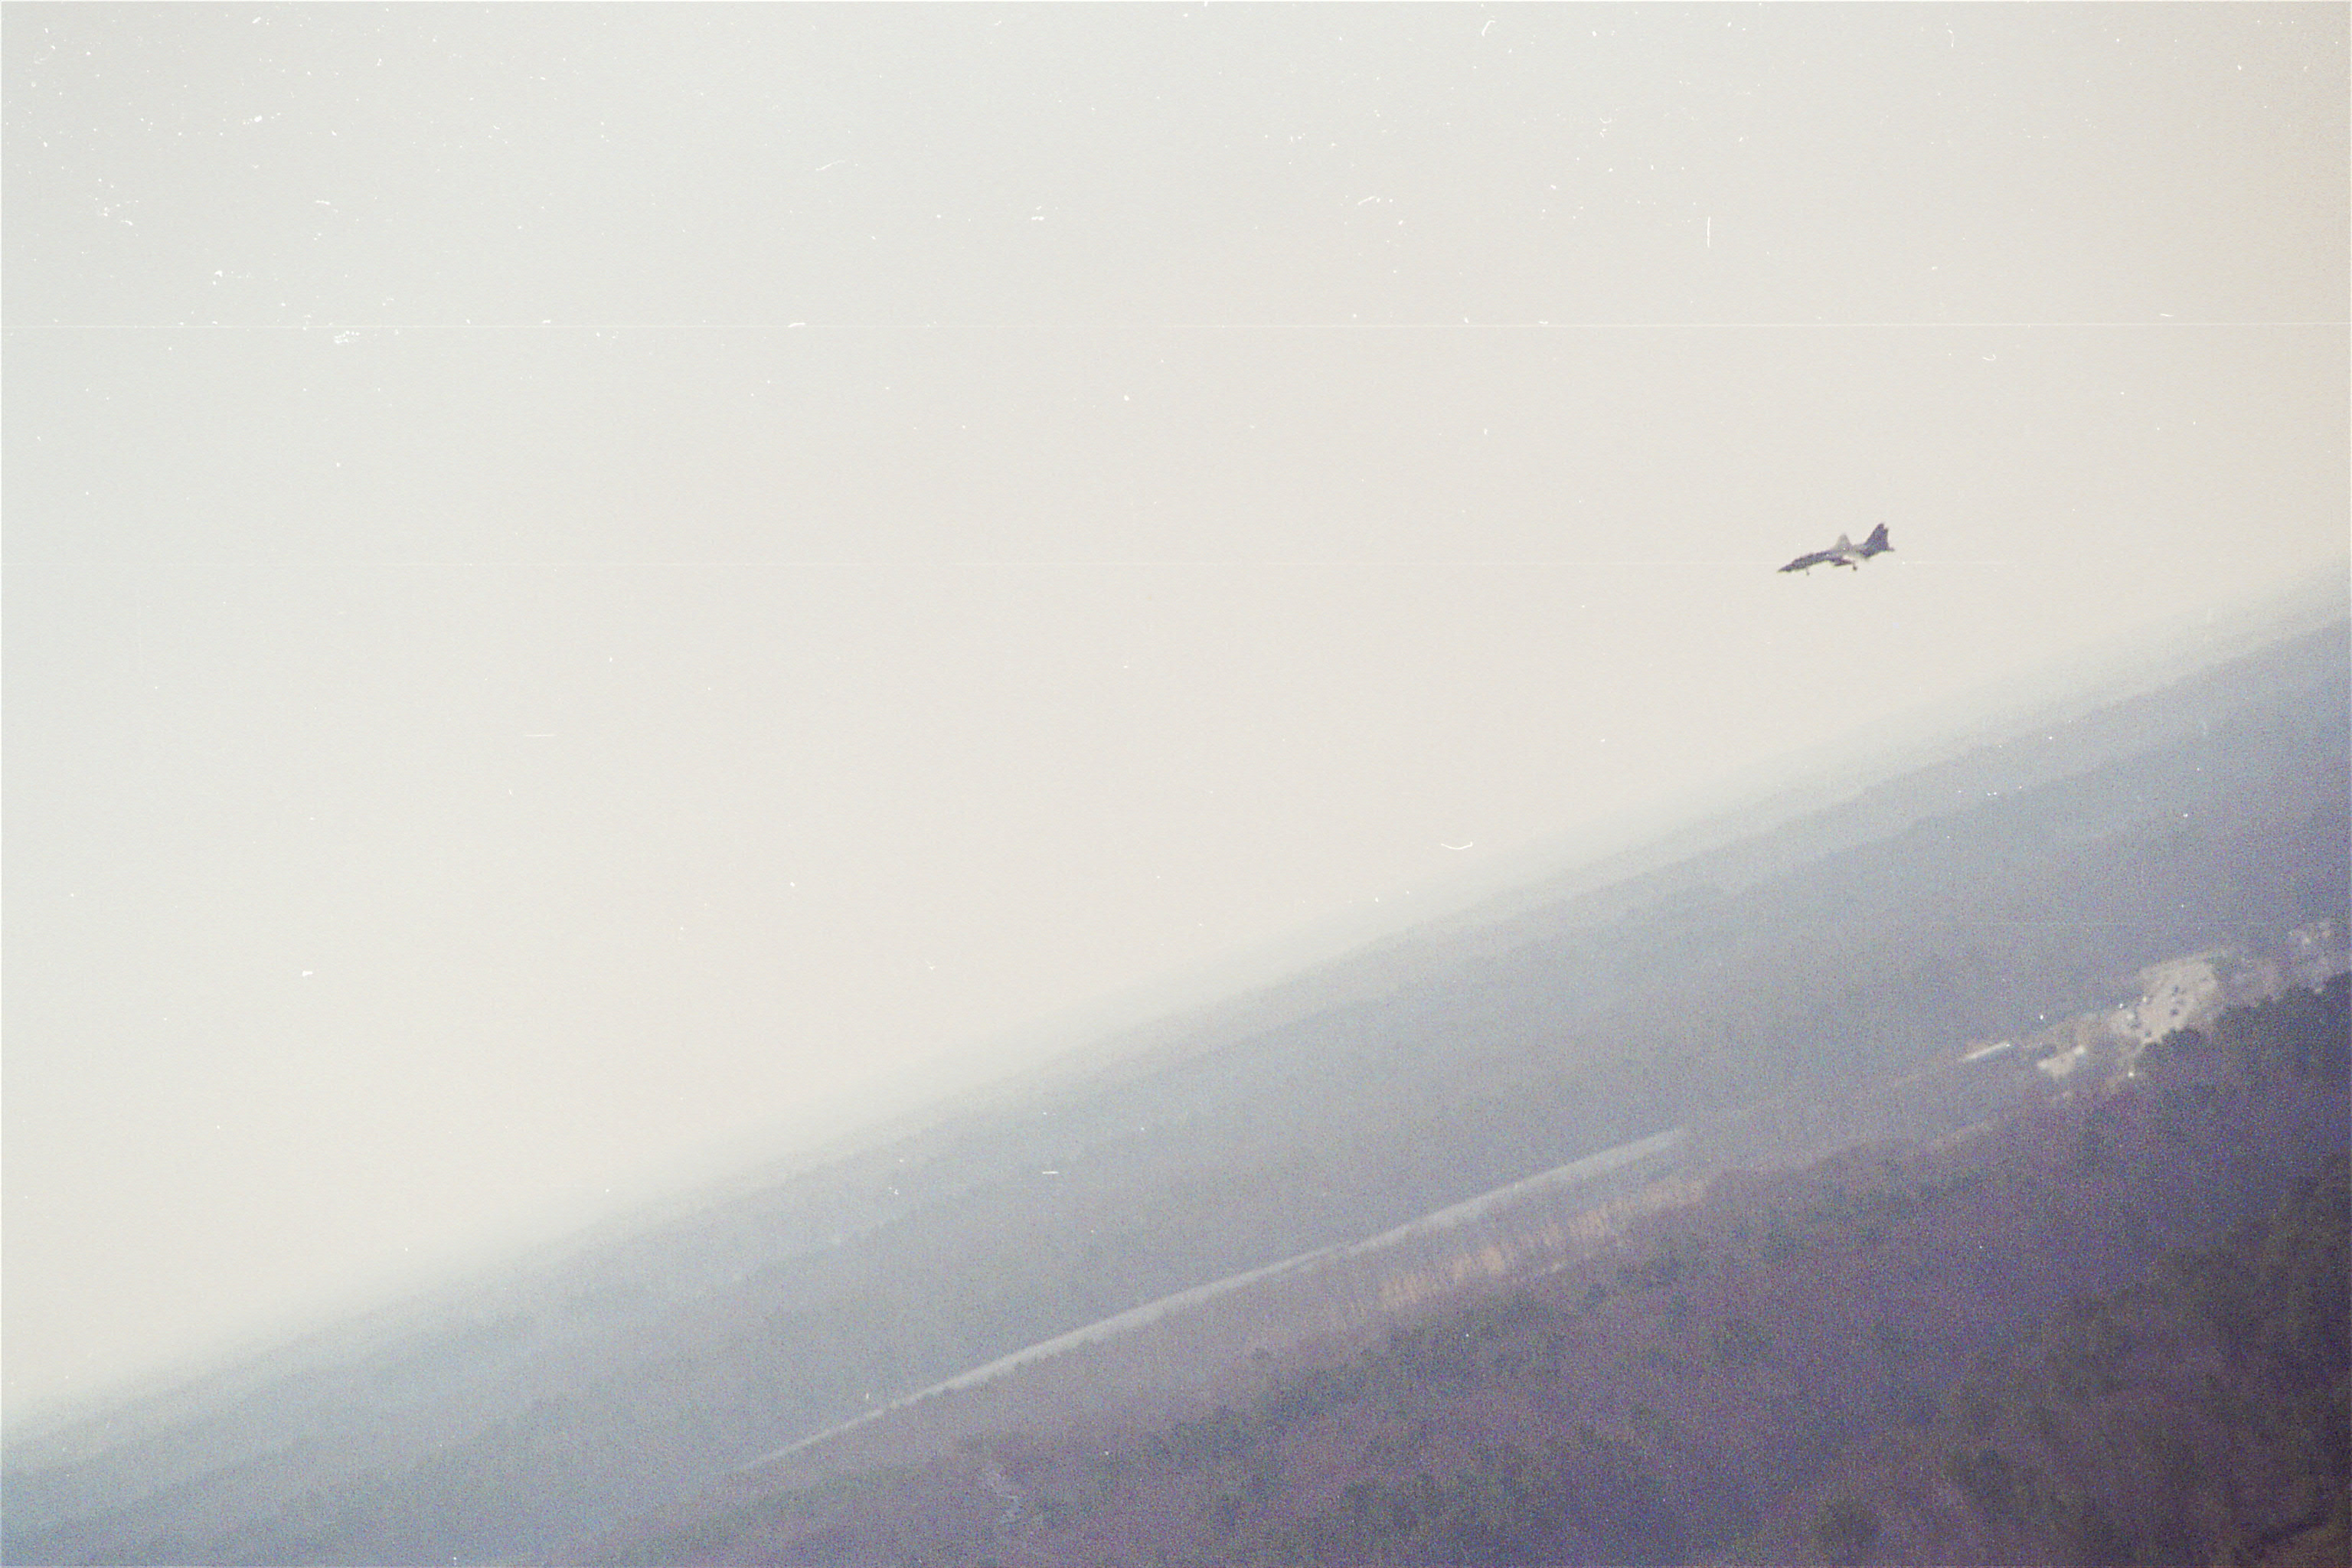F14: (1776, 521, 1897, 576)
